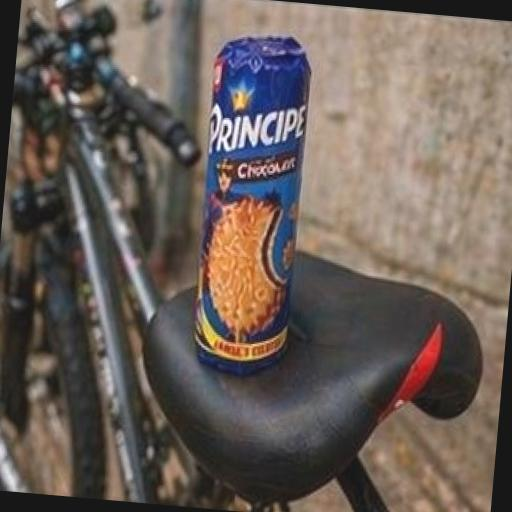prince: (105, 0, 430, 475)
